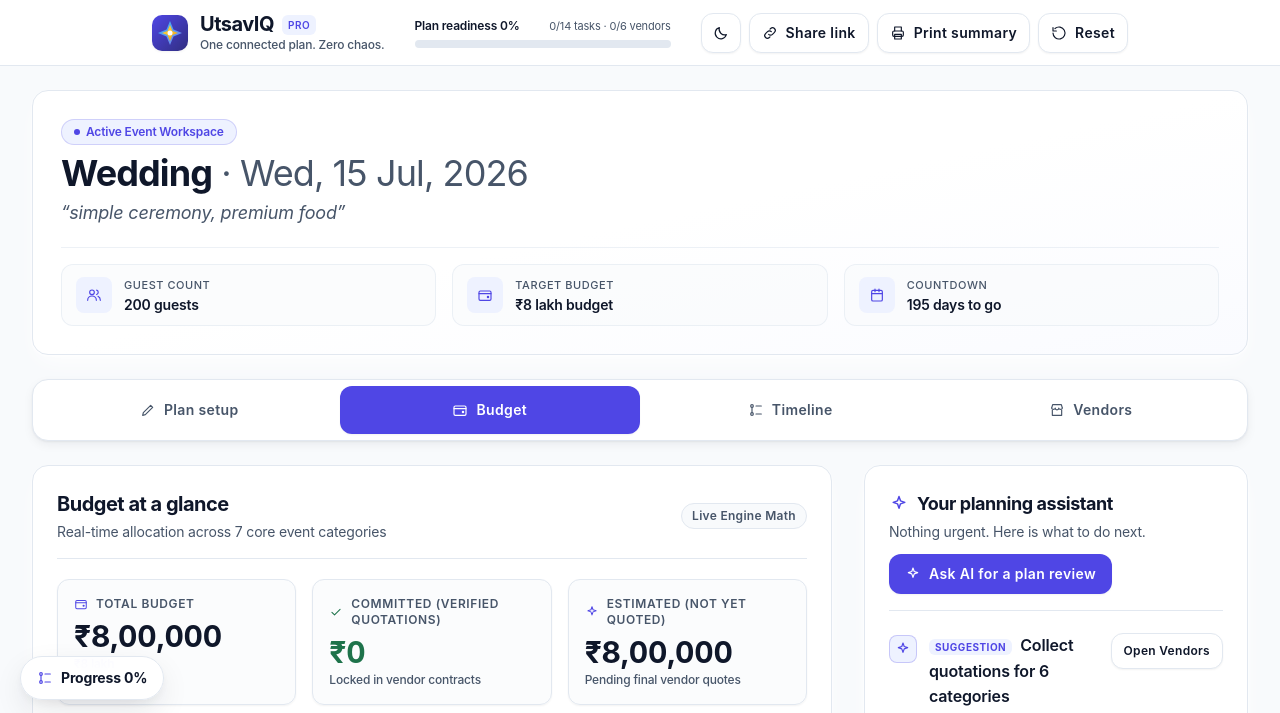
Test: timeline › shows the suggested run sheet for the day
This screenshot has width=1280, height=713.
What coordinates should you click on to do the following:
click the tab "Timeline"
I would click on:
 (790, 410)
Its box is [640,386,940,434].
(page scrolled)
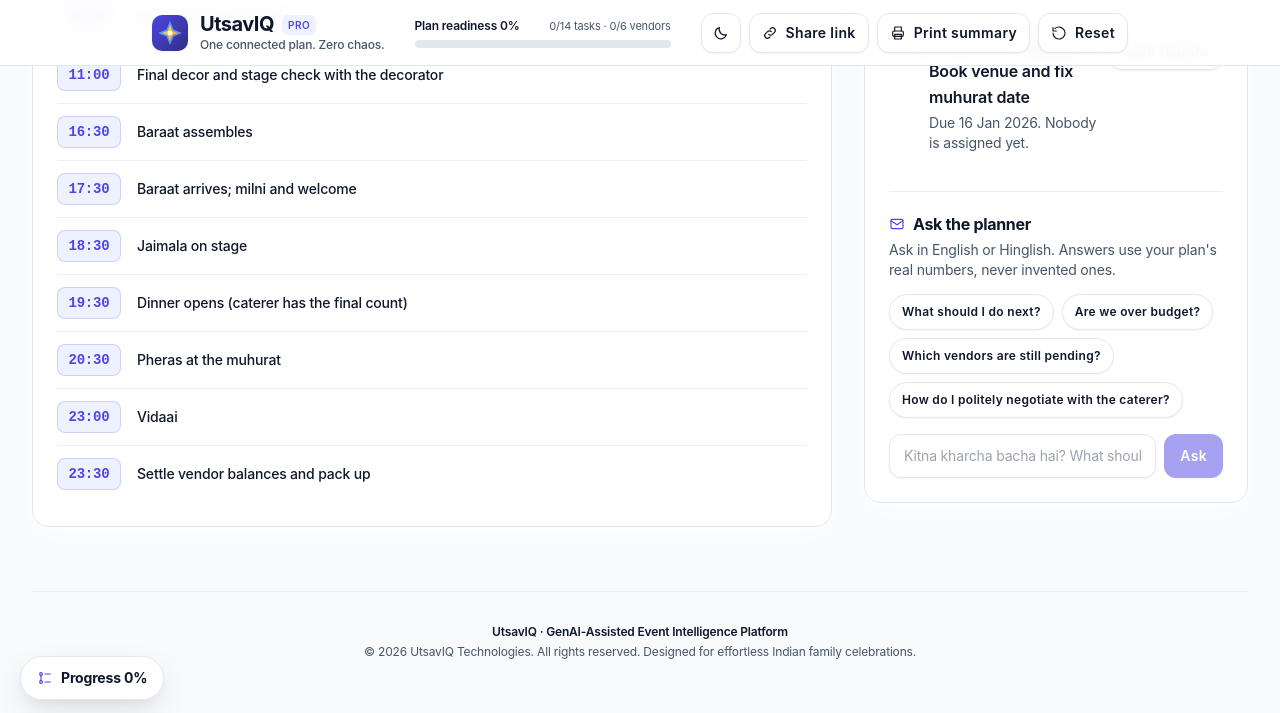
Expected: the text "Pheras at the muhurat" is shown, [137,350,281,370]
Expected: the text "20:30" is shown, [57,344,121,376]
